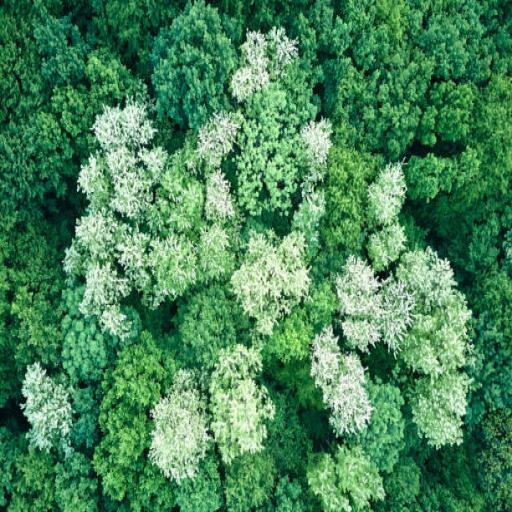tree-top: (98, 336, 157, 505), (150, 5, 232, 125), (86, 106, 162, 229), (397, 243, 470, 370), (0, 213, 61, 359), (338, 62, 428, 158), (208, 343, 272, 464), (236, 228, 309, 334), (70, 208, 140, 318), (307, 328, 372, 442), (0, 108, 69, 214), (238, 105, 295, 224), (148, 385, 214, 480), (303, 444, 390, 512), (0, 4, 45, 127), (21, 361, 74, 460), (406, 372, 473, 450), (178, 283, 236, 373), (324, 135, 367, 254), (465, 316, 512, 424), (417, 0, 484, 74), (148, 153, 204, 241), (61, 298, 115, 388), (474, 75, 512, 194), (35, 0, 83, 86), (358, 376, 400, 474), (420, 77, 473, 152), (230, 26, 290, 92), (400, 156, 478, 206), (474, 417, 512, 512), (457, 202, 505, 273), (148, 230, 193, 304), (103, 0, 159, 58), (311, 0, 366, 56), (223, 459, 280, 512), (5, 454, 55, 512), (54, 446, 97, 512), (53, 82, 99, 142), (177, 456, 225, 512), (382, 450, 424, 512), (194, 221, 236, 283), (192, 110, 238, 166), (338, 256, 377, 322), (87, 50, 131, 107), (284, 61, 324, 123), (299, 116, 337, 179), (372, 160, 406, 230), (72, 374, 100, 457), (203, 169, 243, 226), (474, 258, 512, 312), (375, 278, 404, 348), (369, 0, 416, 41), (442, 469, 485, 512), (298, 186, 326, 252), (364, 225, 402, 269), (340, 314, 375, 354), (278, 471, 305, 512)
